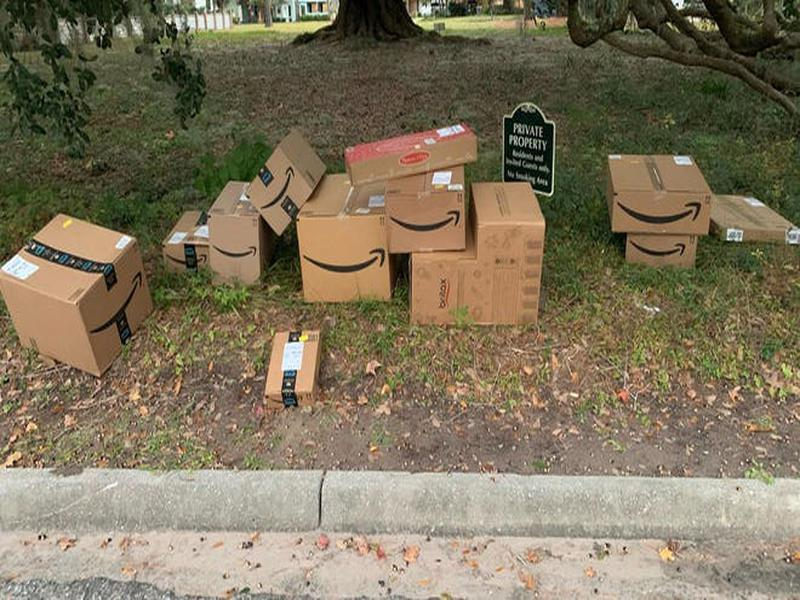cardboard: (1, 216, 156, 377), (411, 182, 544, 325), (294, 177, 396, 308), (243, 125, 329, 238), (606, 154, 713, 238), (340, 122, 483, 184), (384, 173, 466, 252), (210, 182, 266, 290), (258, 326, 328, 408), (709, 195, 800, 249), (163, 208, 206, 285), (624, 233, 702, 269)
